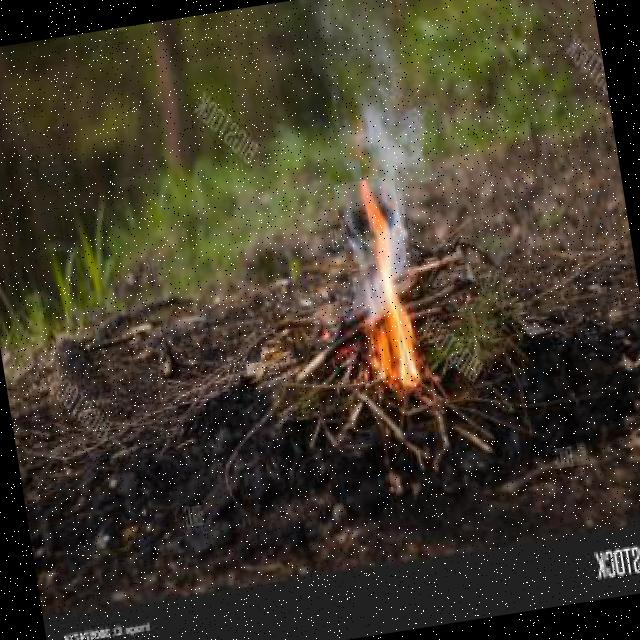fire: (334, 176, 427, 396)
